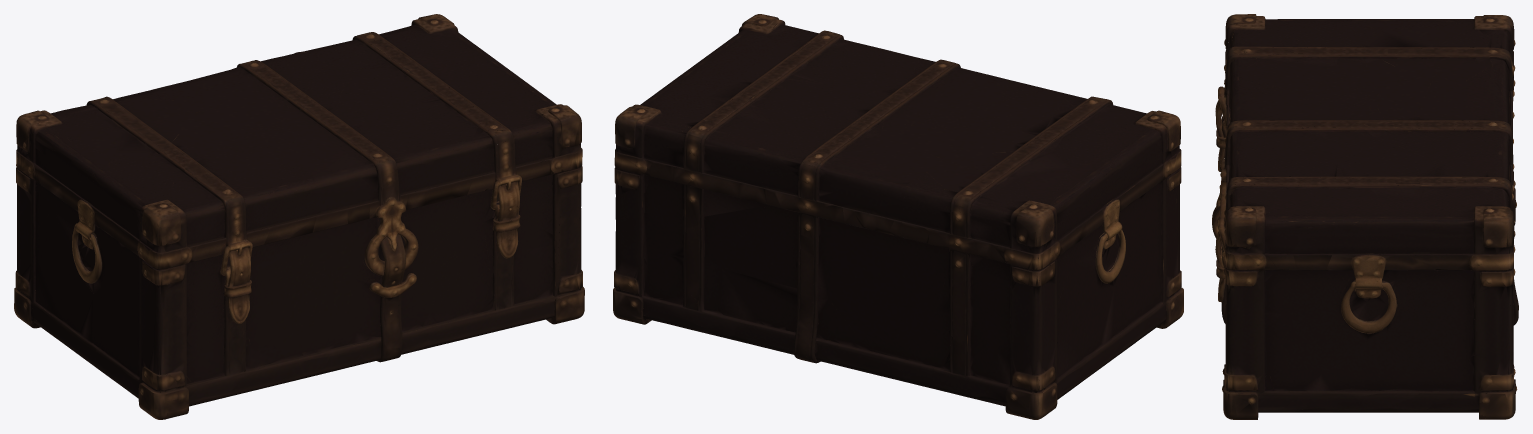
The model's file is cleaned.glb.
3 views of the same model, side by side, from view 1: azimuth 30°, elevation 25°; view 2: azimuth 150°, elevation 25°; view 3: azimuth 270°, elevation 25° (orthographic).
Parts seen in each view (by area): view 1: chest Meshy body; view 2: chest Meshy body; view 3: chest Meshy body.
Boxes of the visible parts, left/top/right/bottom form: chest Meshy body: left=14, top=14, right=584, bottom=419; chest Meshy body: left=613, top=14, right=1183, bottom=419; chest Meshy body: left=1212, top=14, right=1518, bottom=419.
Bounding box in the file's own units: 2.21 × 1 × 1.36.
Materials: 1 (1 with a texture image).
